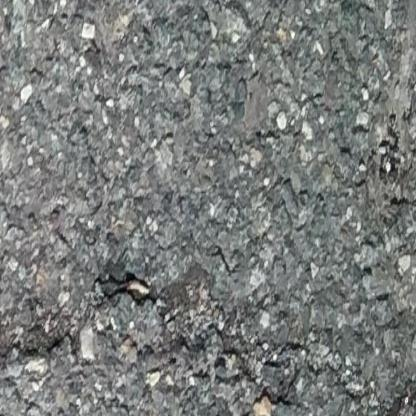Cracks: (0, 268, 316, 415), (385, 379, 416, 416)
